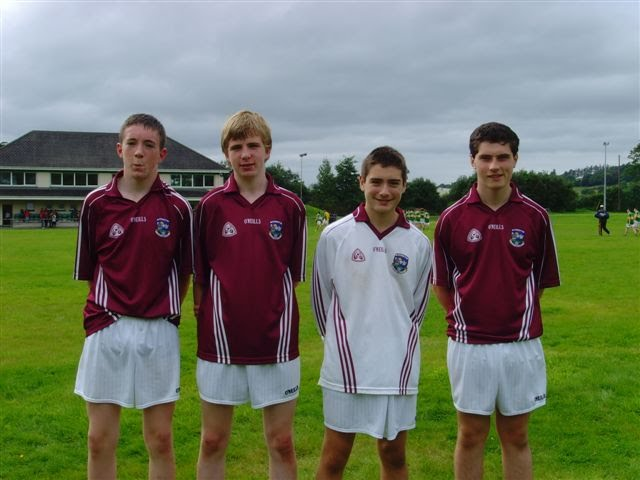player: (194, 96, 329, 452), (434, 114, 568, 455), (90, 113, 205, 435), (321, 137, 436, 440)
